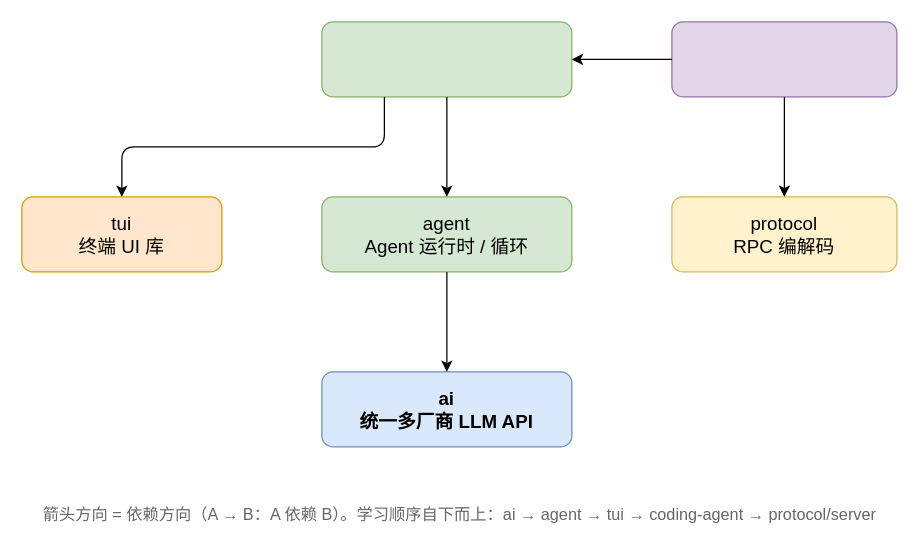
This 919x556 diagram has some shape labels left out. The centre of each missing label's shape, as x and y in pixels:
coding-agent pi CLI 本体: the point at 446,59
server 远程会话服务: the point at 784,59
